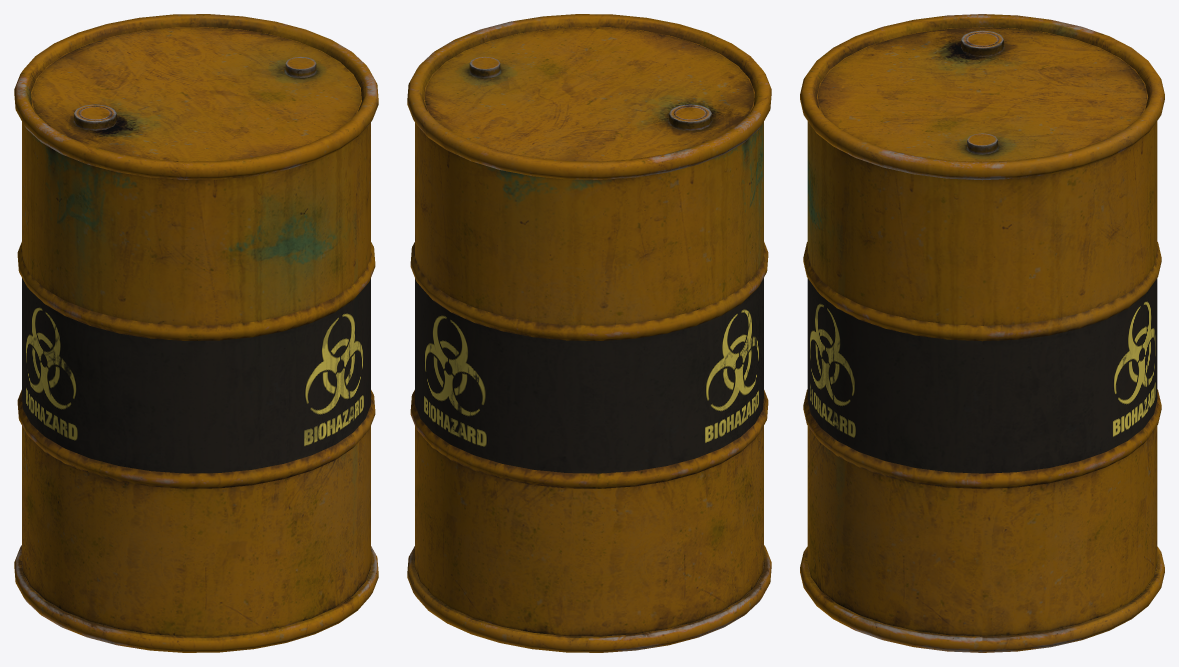
File: barell_-_bio_hazard.glb
3 renders of one model, left to right at view 1: azimuth 30°, elevation 25°; view 2: azimuth 150°, elevation 25°; view 3: azimuth 270°, elevation 25°, orthographic.
Visible parts, largest first — view 1: SM_Barell_low; view 2: SM_Barell_low; view 3: SM_Barell_low.
Boxes of the visible parts, x1,y1,x2,y2 form: SM_Barell_low: [14, 14, 378, 652]; SM_Barell_low: [407, 14, 771, 652]; SM_Barell_low: [800, 14, 1164, 652].
Bounding box in the file's own units: 0.5944 × 0.8778 × 0.5944.
Materials: 1 (1 with a texture image).
